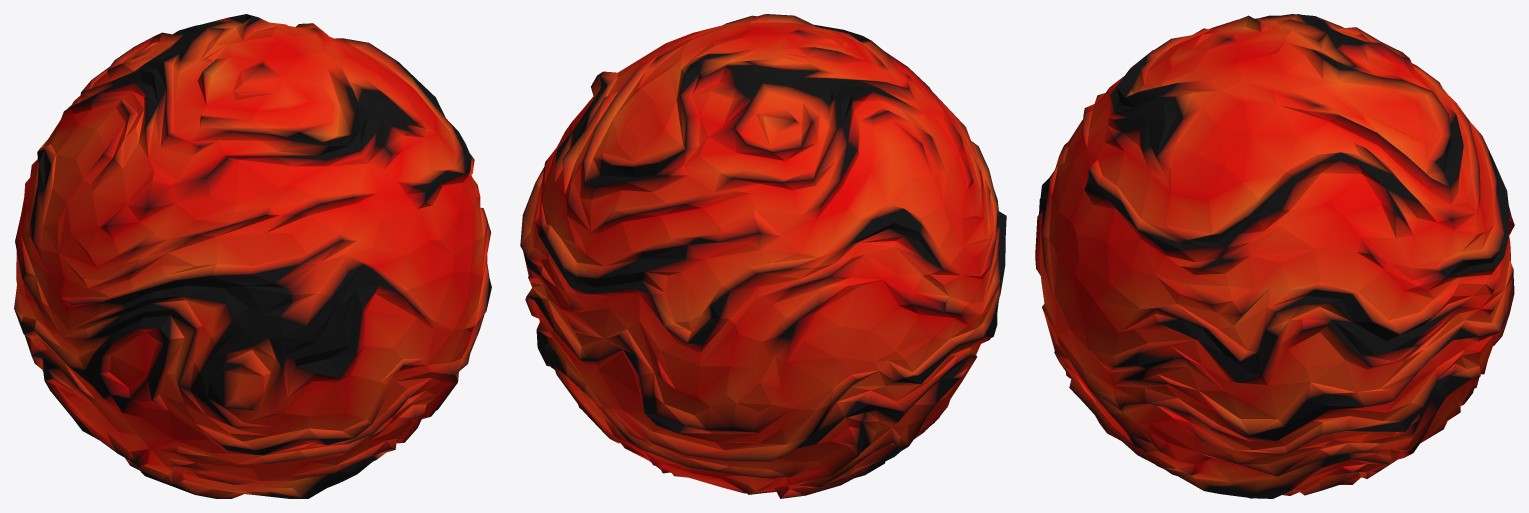
File: volcanic_planet_14.fbx
3 renders of one model, left to right at view 1: azimuth 30°, elevation 25°; view 2: azimuth 150°, elevation 25°; view 3: azimuth 270°, elevation 25°, orthographic.
Parts seen in each view (by area): view 1: filecache2; view 2: filecache2; view 3: filecache2.
Part boxes in pixels (<box>): filecache2: <box>14,14,491,498</box>; filecache2: <box>520,14,1006,498</box>; filecache2: <box>1035,14,1514,498</box>.
Bounding box in the file's own units: 2.04 × 2.04 × 2.04.
